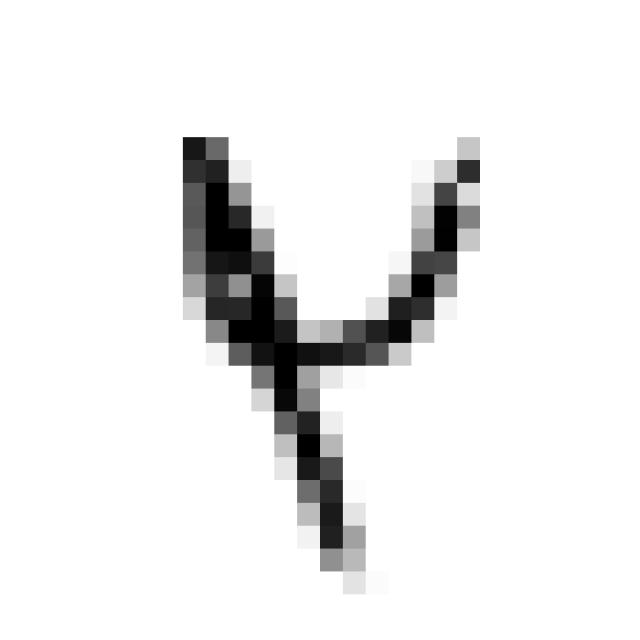3 -three-: (153, 110, 501, 589)
